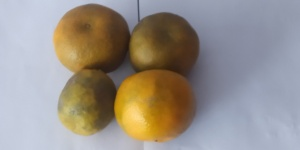BAD: (114, 66, 195, 143), (52, 2, 129, 77), (129, 9, 198, 74), (55, 67, 118, 138)
